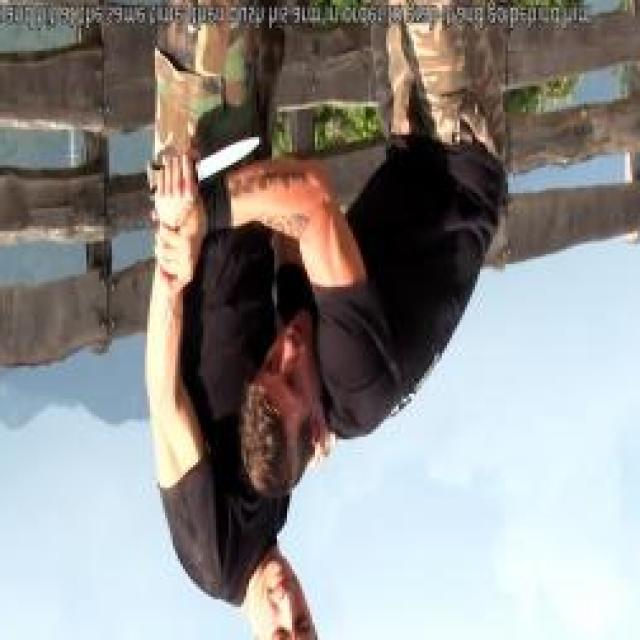knife: (145, 126, 265, 226)
